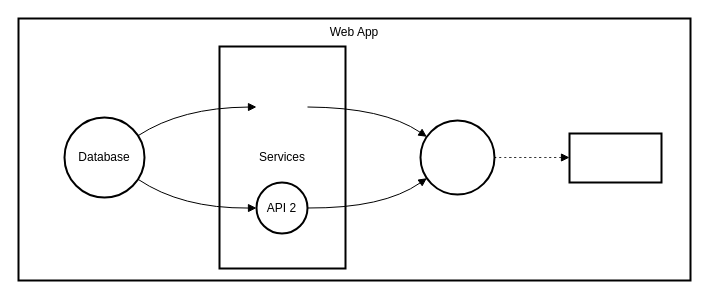
The diagram is 708 pixels wide and 298 high, and some of its shapes have lost their labels. Each missing label, with the centre of its shape:
UI Layer: pixel 457 157
User: pixel 615 157
